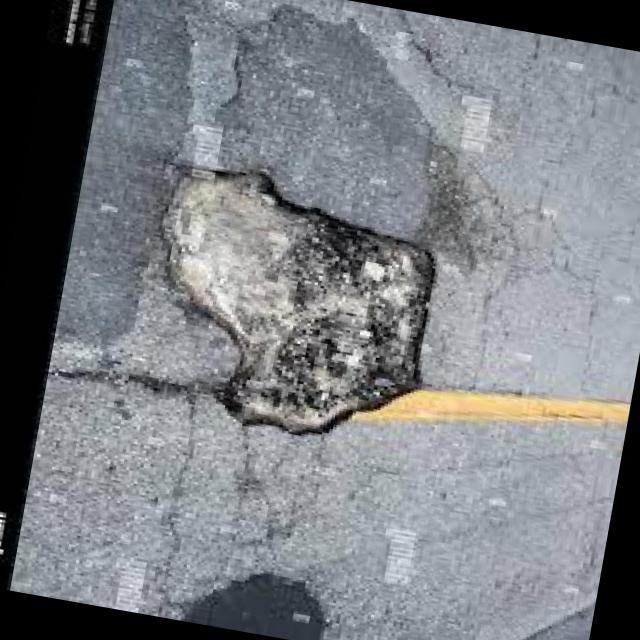pothole: (149, 148, 442, 442)
